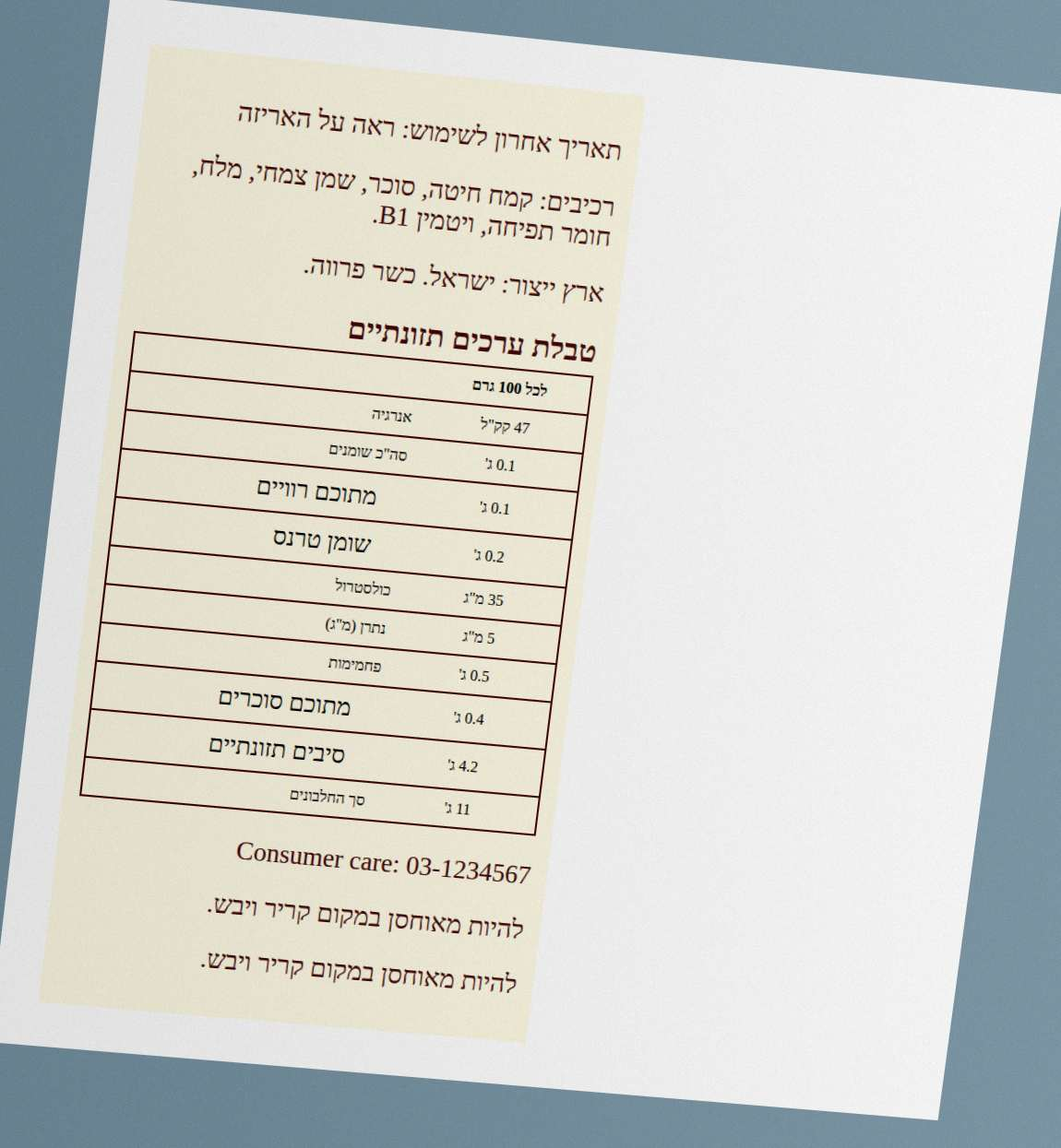carbs: (455, 664, 493, 687)
energy: (477, 413, 533, 439)
fat: (481, 453, 519, 477)
protein: (441, 797, 474, 820)
